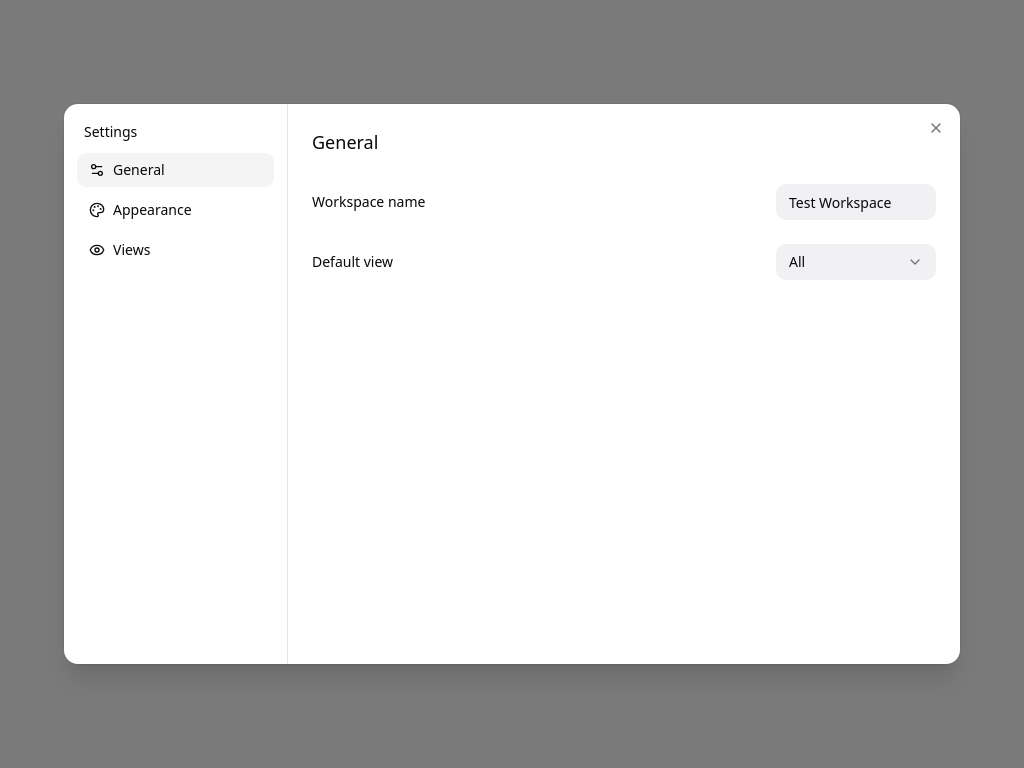
Test: SettingsModal › renders view toggles inside Views section
expect the text "Workspace name" is shown: met, box [312,192,425,212]
expect the text "Default view" is shown: met, box [312,252,393,272]
What coordinates should you click on to do the following:
click the button "Views"
I would click on:
 (176, 250)
Its box is [76,232,275,268].
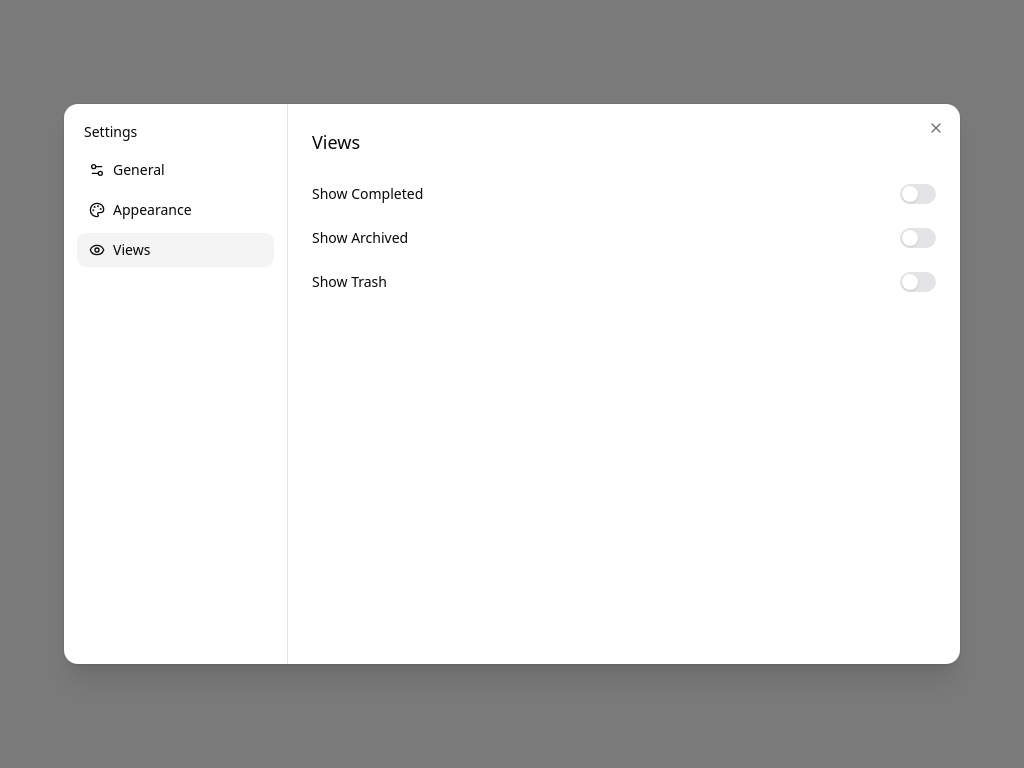
expect the switch named "Show Completed" in the row of "Show Completed" is shown: met, box [900,184,936,204]
expect the switch named "Show Archived" in the row of "Show Archived" is shown: met, box [900,228,936,248]
expect the switch named "Show Trash" in the row of "Show Trash" is shown: met, box [900,272,936,292]
